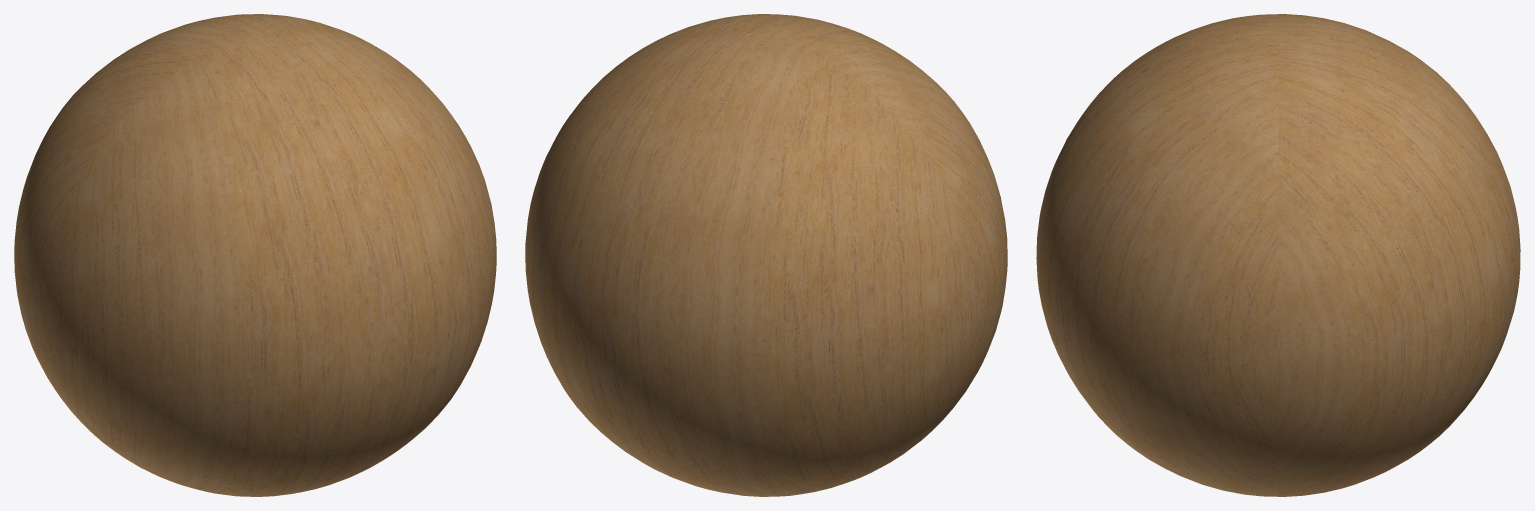
Rendered from ball_709637f8_visual.obj.
The picture shows the model from 3 angles, left to right: view 1: azimuth 30°, elevation 25°; view 2: azimuth 150°, elevation 25°; view 3: azimuth 270°, elevation 25°; orthographic projection.
Size of the model in its own units: 0.1999 by 0.2 by 0.1999.
Materials: 1 (1 with a texture image).
